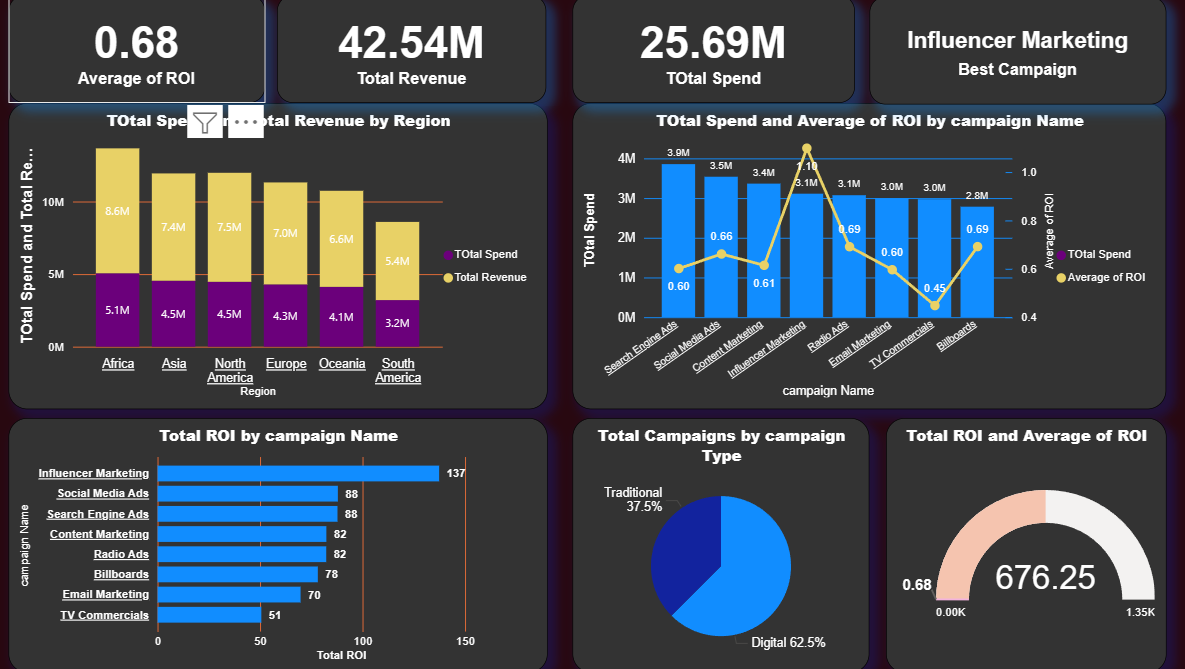

Layout of this report page (visuals, bound fields, positions):
{"tool":"powerbi","page":{"name":"Marketing Expense Allocation Report","canvas":[1280,720],"ordinal":0},"visuals":[{"type":"columnChart","fields":{"Y":["marketing campaign performance.TOtal Spend","marketing campaign performance.Total Revenue"],"Category":["region performance.Region"]},"box":[23.4,114.9,572.5,325.2],"z":0},{"type":"lineClusteredColumnComboChart","fields":{"Category":["marketing campaign details.campaign Name"],"Y":["marketing campaign performance.TOtal Spend"],"Y2":["Avg(marketing campaign performance.ROI)"]},"box":[623.1,114.9,630.9,325.2],"z":1},{"type":"barChart","fields":{"Category":["marketing campaign details.campaign Name"],"Y":["marketing campaign details.Total ROI"]},"box":[23.4,449.8,572.5,270.7],"z":2},{"type":"pieChart","title":"Total Campaigns by campaign Type","fields":{"Category":["marketing campaign details.campaign Type"],"Y":["CountNonNull(marketing campaign details.Total Campaigns)"]},"box":[623.1,449.8,315.5,270.7],"z":3},{"type":"gauge","fields":{"TargetValue":["Avg(marketing campaign performance.ROI)"],"Y":["marketing campaign details.Total ROI"]},"box":[956.1,449.8,297.9,270.7],"z":4},{"type":"card","fields":{"Values":["Avg(marketing campaign performance.ROI)"]},"box":[23.4,0,272.6,114.9],"z":5},{"type":"card","fields":{"Values":["marketing campaign performance.Total Revenue"]},"box":[309.6,0,286.2,114.9],"z":6},{"type":"card","fields":{"Values":["marketing campaign performance.TOtal Spend"]},"box":[623.1,0,299.9,114.9],"z":7},{"type":"card","fields":{"Values":["marketing campaign details.Best Campaign"]},"box":[938.6,1.9,315.5,114.9],"z":8}]}

Visuals, with their boxes in screenshot pixels (x1, y1, x2, y2), scaled from the page's 1280x720 canvas onto the 1185x669 screenshot:
columnChart - marketing campaign performance.TOtal Spend x marketing campaign performance.Total Revenue: detection(22, 107, 552, 409)
lineClusteredColumnComboChart - marketing campaign details.campaign Name x marketing campaign performance.TOtal Spend: detection(577, 107, 1161, 409)
barChart - marketing campaign details.campaign Name x marketing campaign details.Total ROI: detection(22, 418, 552, 668)
"Total Campaigns by campaign Type" pieChart: detection(577, 418, 869, 668)
gauge - Avg(marketing campaign performance.ROI) x marketing campaign details.Total ROI: detection(885, 418, 1161, 668)
card - Avg(marketing campaign performance.ROI): detection(22, 0, 274, 107)
card - marketing campaign performance.Total Revenue: detection(287, 0, 552, 107)
card - marketing campaign performance.TOtal Spend: detection(577, 0, 854, 107)
card - marketing campaign details.Best Campaign: detection(869, 2, 1161, 109)
